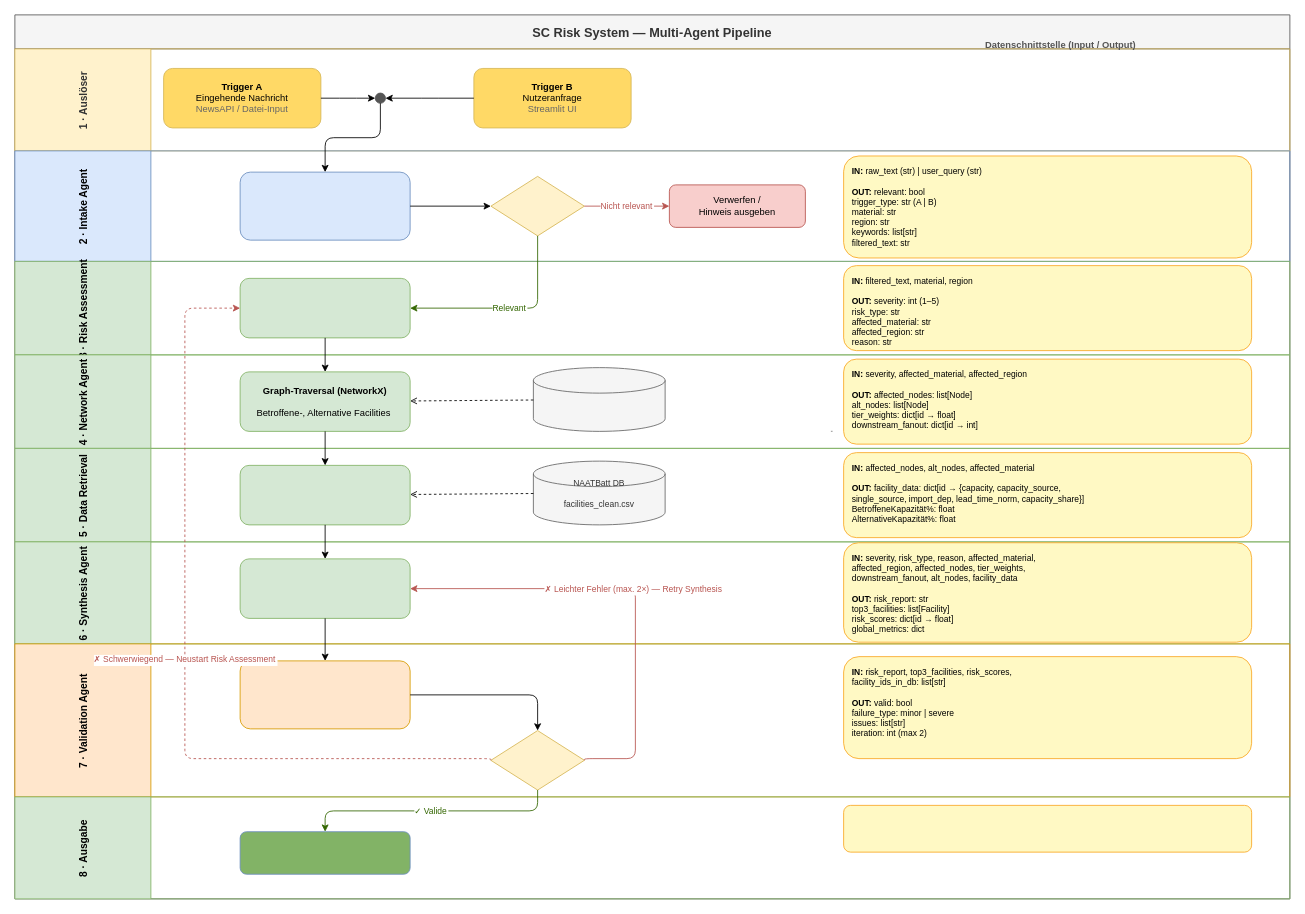
This 1305x914 diagram has some shape labels left out. Here are the shapes that lost their labels. From the top down, the centre of each, then its label:
[324,205]: Nachrichtenfilterung (LLM) Relevanzprüfung
[537,206]: Relevant?
[324,308]: Risikoklassifikation (LLM) Severity (1–5)
[599,399]: Knowledge Graph knowledge_graph.json
[324,495]: Kapazitätsdaten abrufen (Pandas)
[324,588]: Risikobericht generieren (LLM) RiskScore
[324,694]: Validierung ( rule-based/ LLM) Quellencheck , EntityPrecision Begründungslogik
[537,760]: Valide?
[1047,828]: IN: risk_report (validated, str) Rendering via Streamlit
[324,852]: Risikobericht (Streamlit Dashboard)
